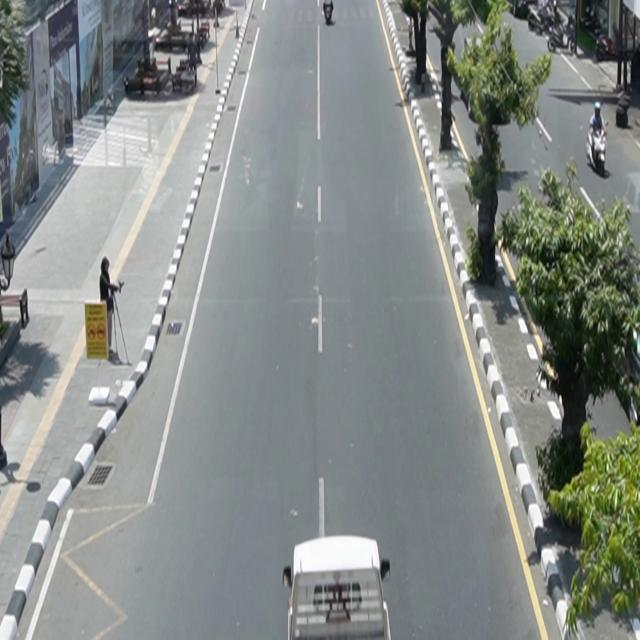truck: (283, 535, 393, 640)
